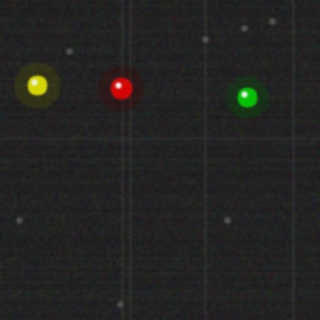green_normal: (235, 85, 259, 109)
red_fault: (108, 75, 134, 101)
yellow_warning: (25, 73, 49, 97)
